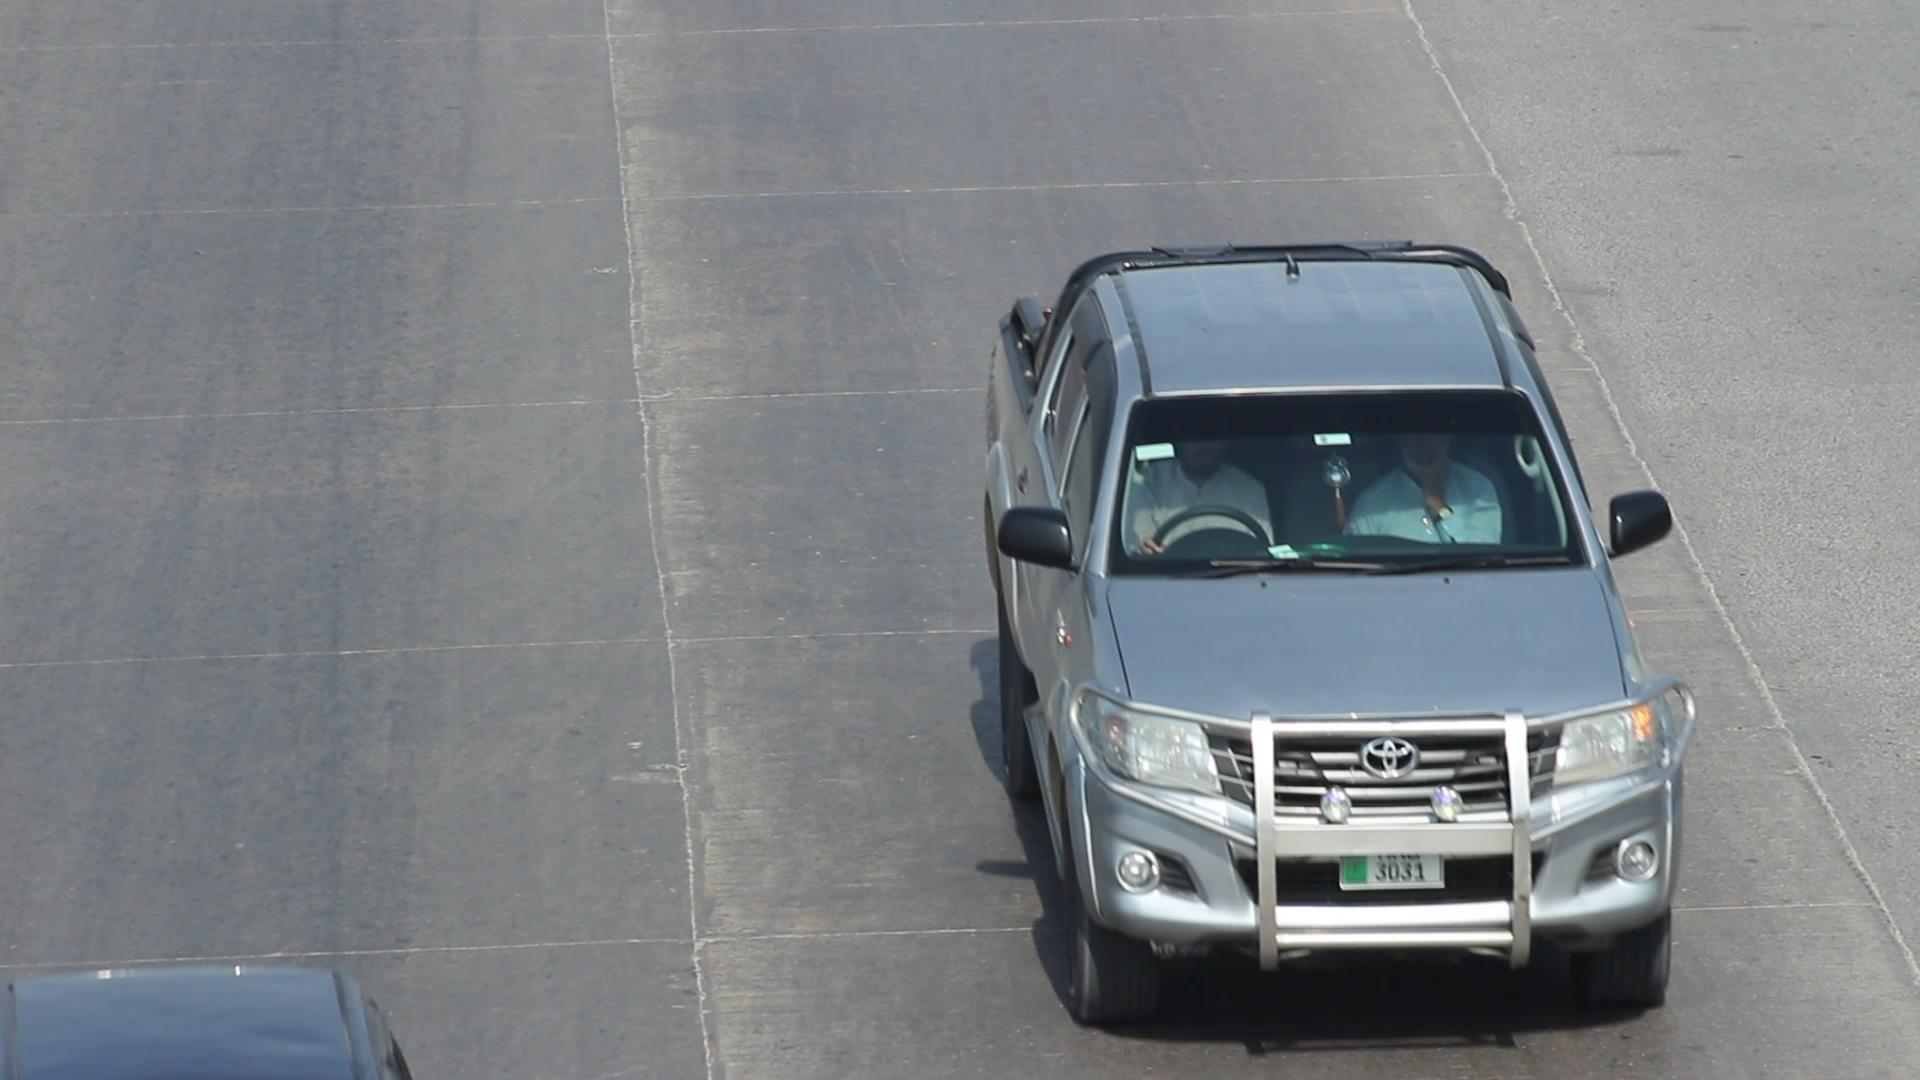windshield: (1101, 380, 1604, 596)
